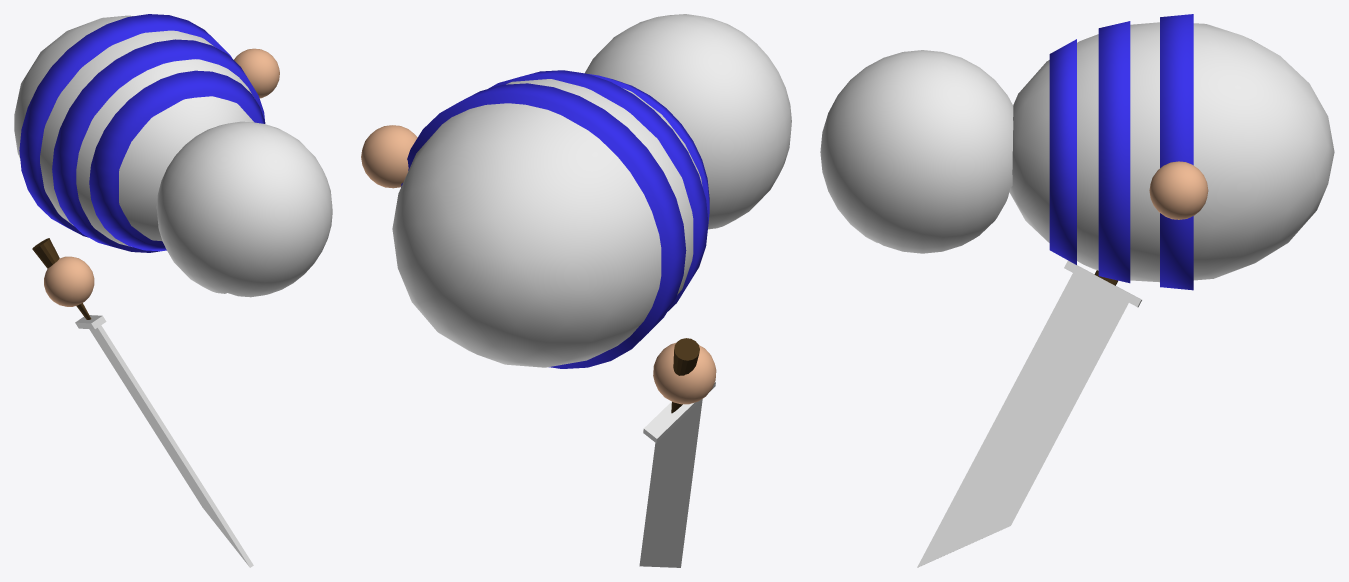
The model's file is knight_blue_attack.glb.
3 views of the same model, side by side, from view 1: azimuth 30°, elevation 25°; view 2: azimuth 150°, elevation 25°; view 3: azimuth 270°, elevation 25° (orthographic). The views are drawn at different scales.
Visible parts, largest first — view 1: Sphere, Icosphere, Cylinder.002, Cylinder.001, Cylinder, Cylinder.015, Icosphere.003, Icosphere.004; view 2: Icosphere, Sphere, Cylinder, Cylinder.015, Cylinder.001, Icosphere.004, Icosphere.003, Cylinder.002; view 3: Icosphere, Sphere, Cylinder.015, Cylinder.001, Cylinder, Cylinder.002, Icosphere.004.
Part boxes in pixels (x1=…): Sphere: x1=156, y1=121, x2=332, y2=297; Icosphere: x1=14, y1=15, x2=254, y2=246; Cylinder.002: x1=89, y1=70, x2=265, y2=251; Cylinder.001: x1=52, y1=39, x2=264, y2=252; Cylinder: x1=19, y1=14, x2=232, y2=237; Cylinder.015: x1=32, y1=238, x2=253, y2=567; Icosphere.003: x1=44, y1=256, x2=94, y2=306; Icosphere.004: x1=234, y1=48, x2=279, y2=98; Icosphere: x1=392, y1=79, x2=702, y2=367; Sphere: x1=585, y1=14, x2=791, y2=229; Cylinder: x1=401, y1=83, x2=686, y2=368; Cylinder.015: x1=639, y1=338, x2=715, y2=567; Cylinder.001: x1=488, y1=70, x2=708, y2=311; Icosphere.004: x1=361, y1=125, x2=417, y2=188; Icosphere.003: x1=653, y1=342, x2=716, y2=404; Cylinder.002: x1=588, y1=74, x2=709, y2=226; Icosphere: x1=1009, y1=22, x2=1334, y2=282; Sphere: x1=820, y1=50, x2=1013, y2=253; Cylinder.015: x1=917, y1=260, x2=1141, y2=567; Cylinder.001: x1=1098, y1=21, x2=1130, y2=283; Cylinder: x1=1160, y1=14, x2=1193, y2=290; Cylinder.002: x1=1049, y1=39, x2=1076, y2=264; Icosphere.004: x1=1149, y1=161, x2=1208, y2=219.
Size of the model in its own units: 0.4085 by 0.7111 by 0.6157.
